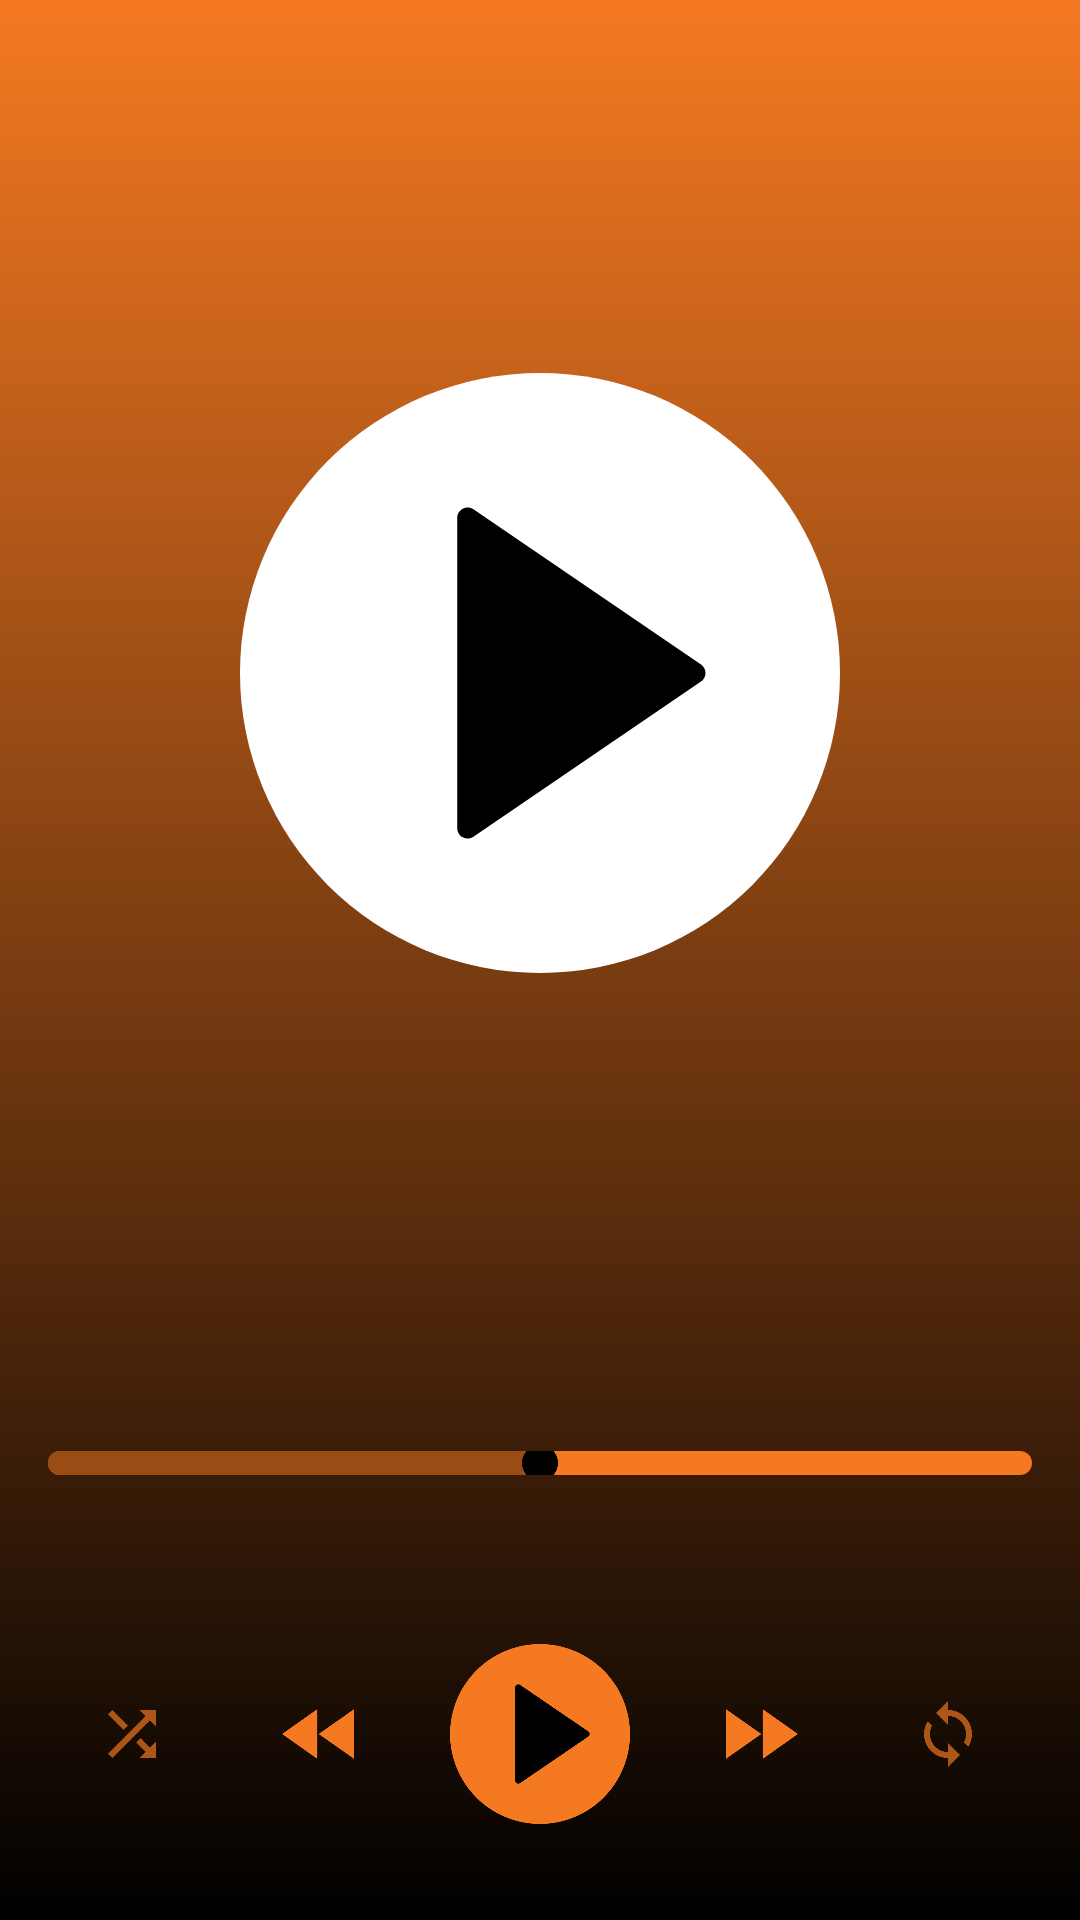

Icon click points for this 1080×1920 phone screenshot, format point (x, y):
next: point (762, 1734)
play: point (540, 1734)
previous: point (318, 1734)
